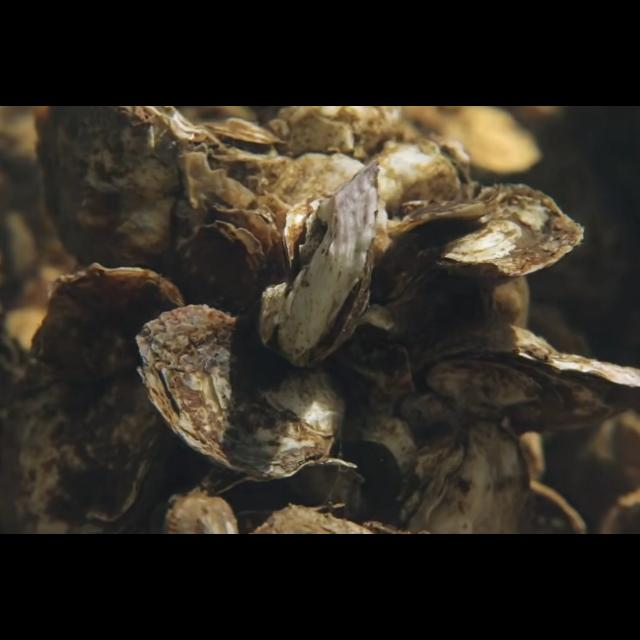Oyster-Closed: (13, 263, 185, 535), (135, 303, 351, 482), (35, 107, 221, 286), (257, 159, 381, 371), (378, 182, 586, 306), (393, 418, 535, 534), (173, 220, 267, 324)
Oyster-Open: (409, 321, 640, 436), (211, 458, 357, 516), (198, 116, 290, 166)
